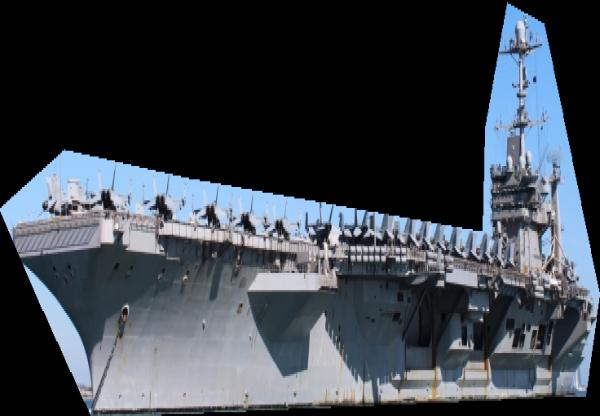Aircraft Carrier: (0, 2, 600, 416)
